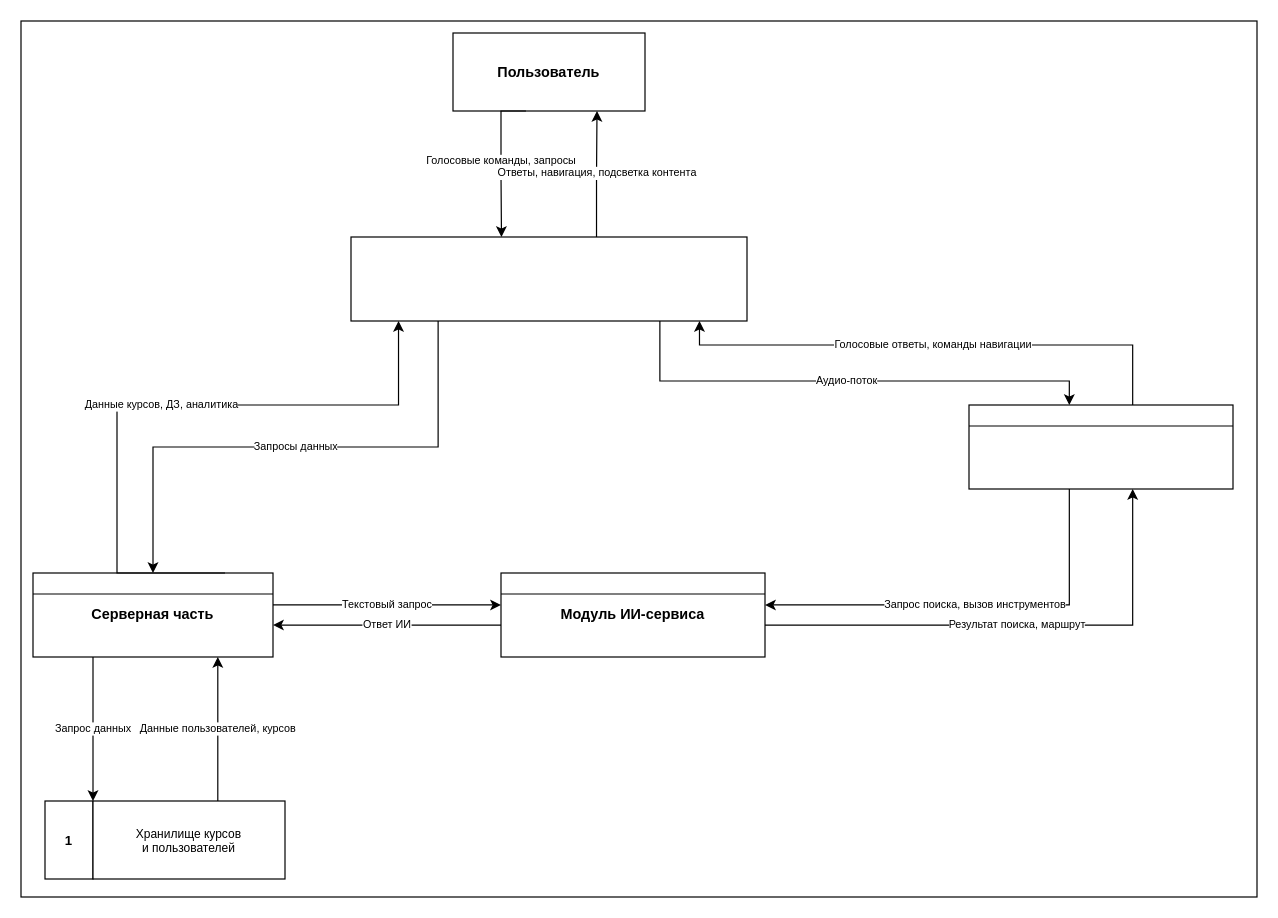
The diagram is 1278 pixels wide and 918 high, and some of its shapes have lost their labels. The shapes that lost their labels are listed below. From the top down, each one's centre as x and y in pixels, then its label:
At point (548, 278): "Образовательная платформа".
At point (1100, 446): "Модуль голосового ассистента".
